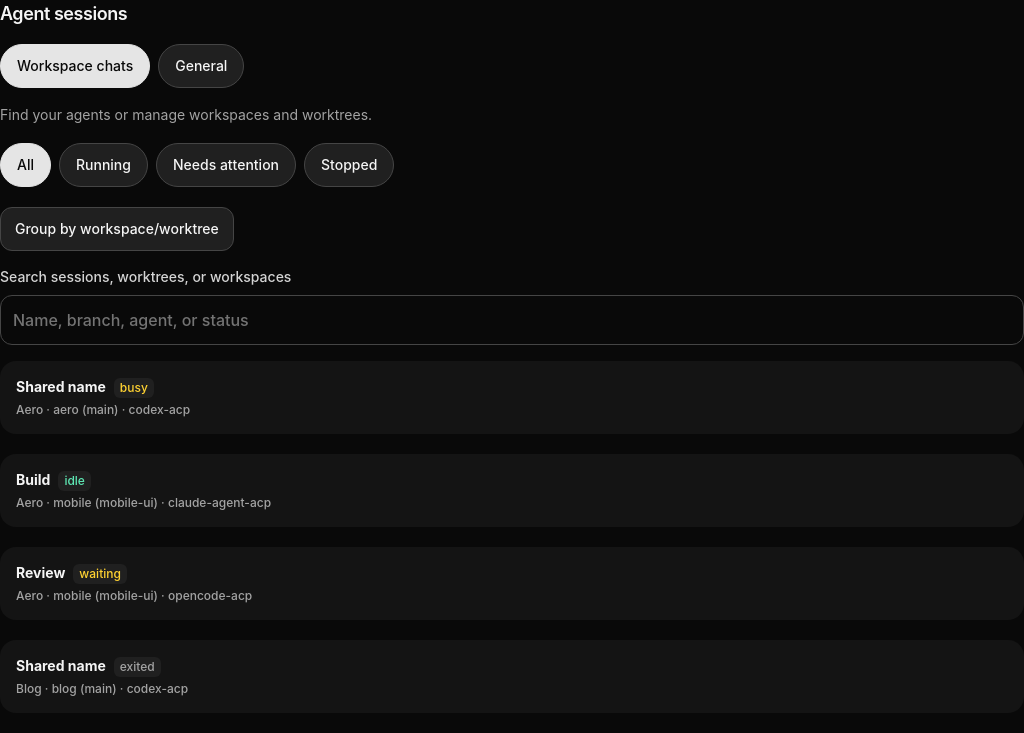
Test: workspace session browser › searches across hierarchy and automatically exposes matches without losing their workspace
The width and height of the screenshot is (1024, 733).
Click the button "Group by workspace/worktree": (117, 229) [0, 207, 234, 251]
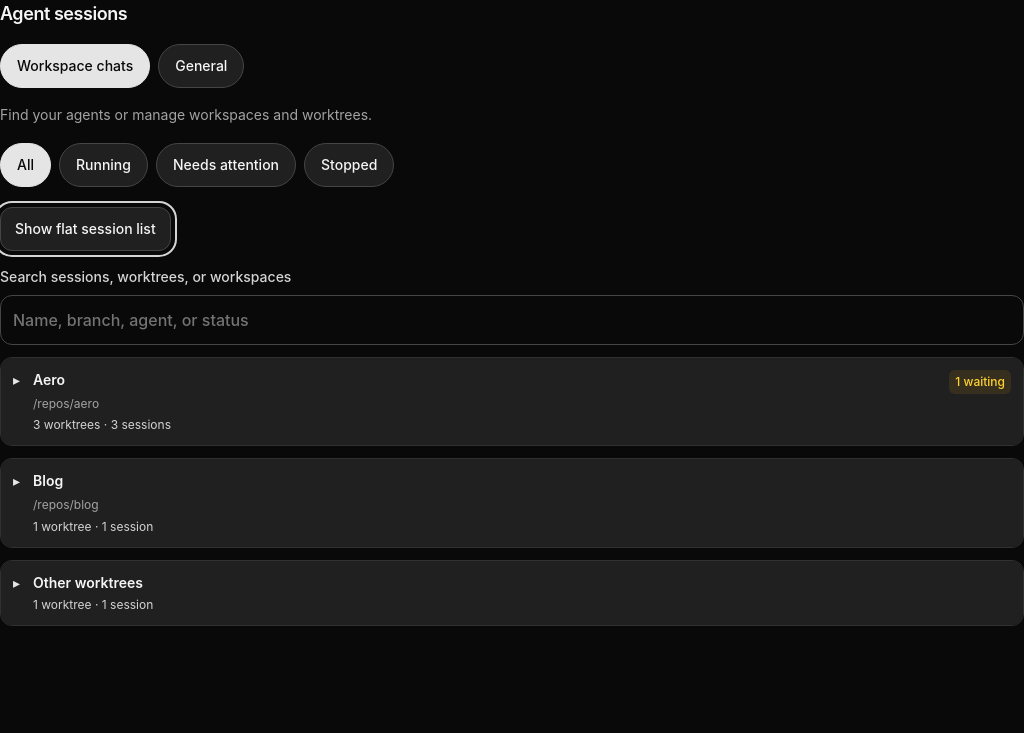
In the search field: (512, 320) [0, 295, 1023, 345], type "Review"
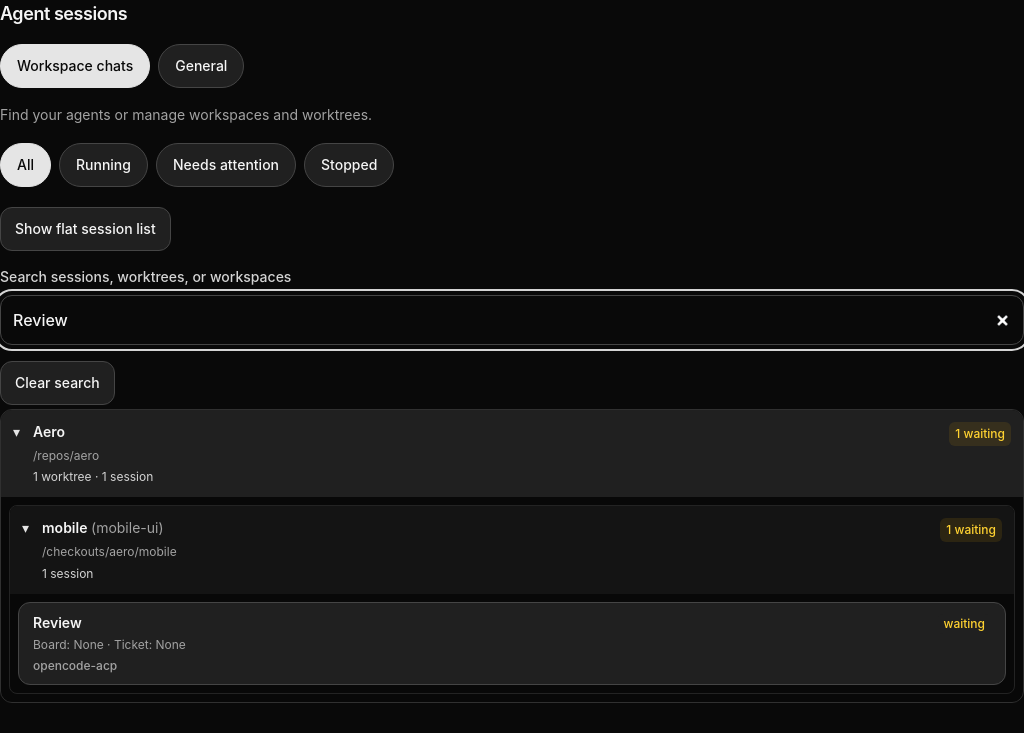
expect the element named "Workspace Aero" is shown: met, box [0, 409, 1023, 703]
expect the element named "Worktree mobile (mobile-ui)" is shown: met, box [9, 505, 1015, 694]
expect the button with aria-label "Review ·" is shown: met, box [18, 602, 1006, 685]
Replace the text in the search field with "not-a-session": (512, 320) [0, 295, 1023, 345]
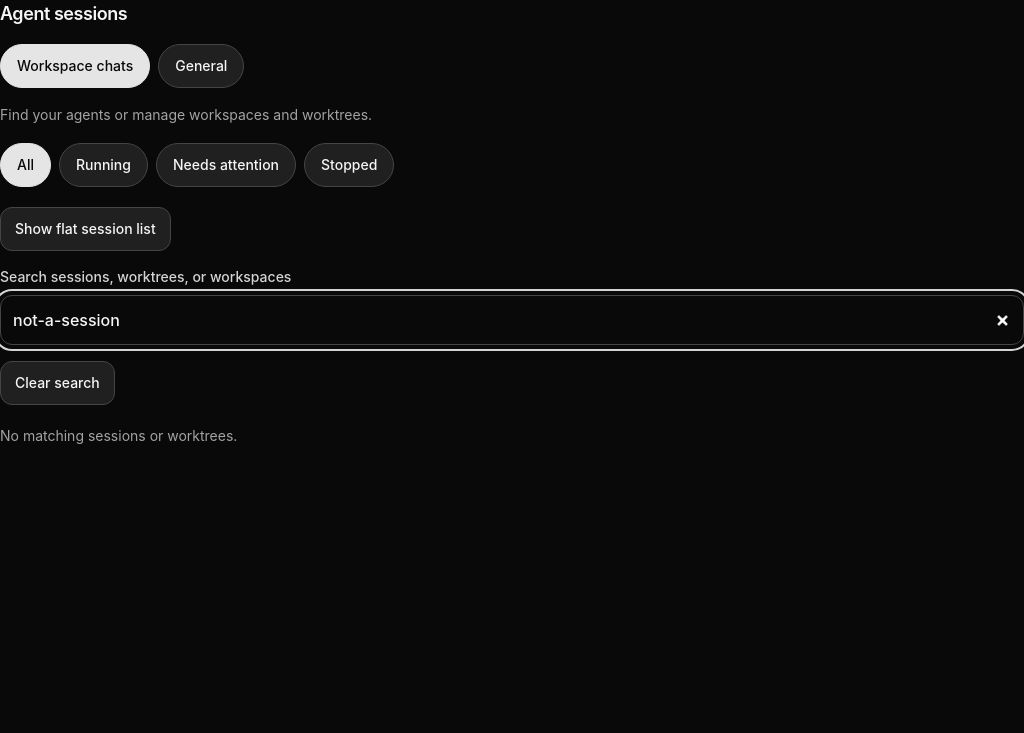
expect the text "No matching sessions or worktrees." is shown: met, box [0, 427, 237, 444]
Click the button "Clear search": (57, 383) [0, 361, 115, 405]
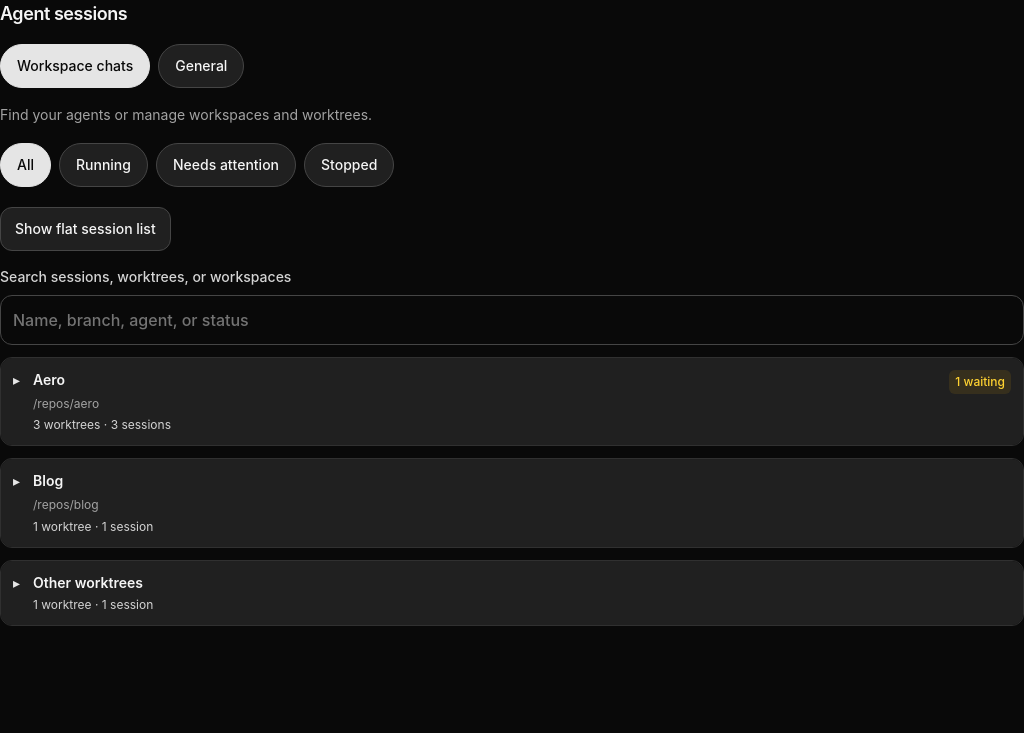
expect the element named "Workspace Blog" is shown: met, box [0, 458, 1023, 548]
